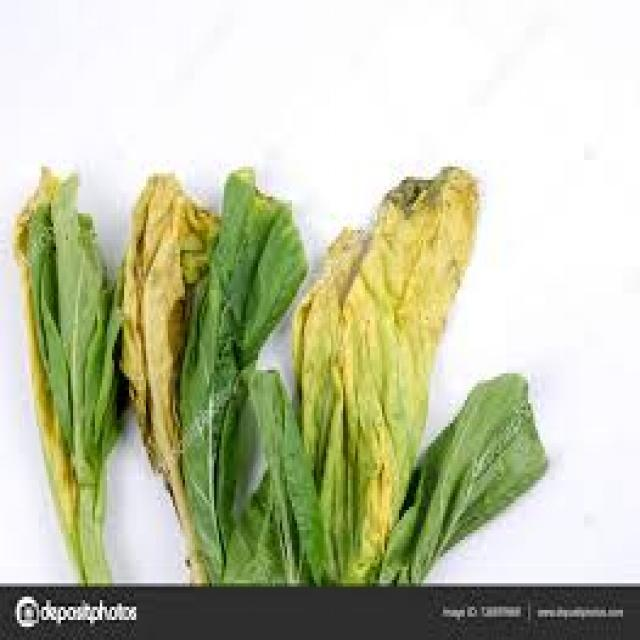organic waste: (290, 160, 474, 580), (175, 167, 302, 580), (12, 156, 127, 576), (370, 366, 545, 576), (112, 170, 202, 573), (243, 363, 326, 577), (219, 467, 294, 580)
